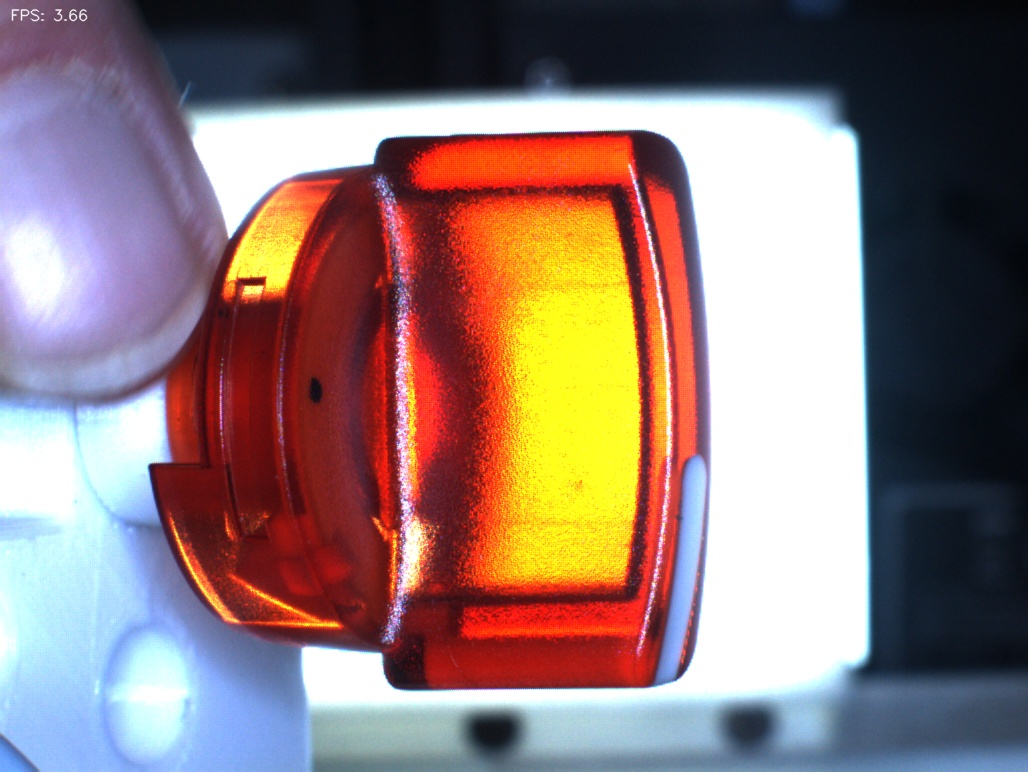PointNoir: (279, 338, 363, 436)
